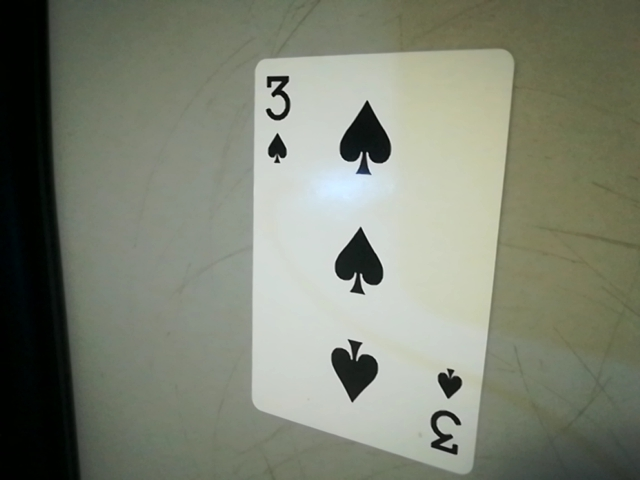ht 3: (253, 68, 303, 169)
